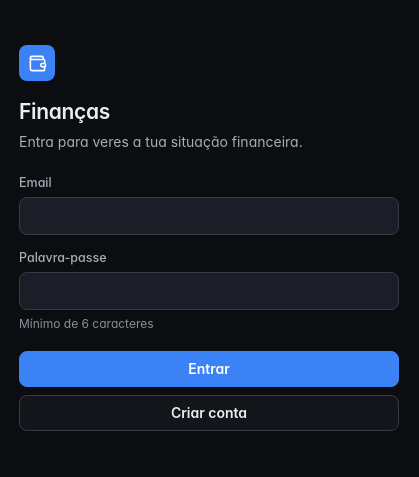
Test: autenticação › mostra o código de erro quando o login falha
This screenshot has width=419, height=477.
Type "ana@exemplo.pt" into the field labelled "Email" at (209, 216), box x1=19 y1=197 x2=399 y2=235
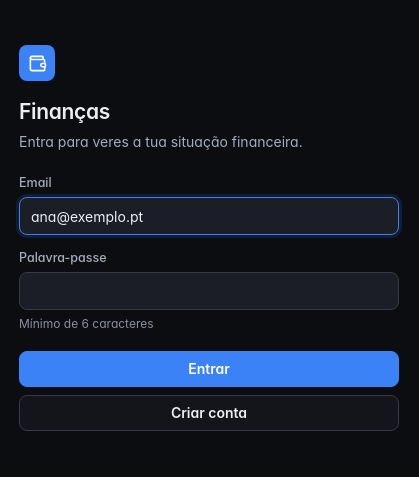
Type "errada" into the password field labelled "Palavra-passe" at (209, 291), box x1=19 y1=272 x2=399 y2=310
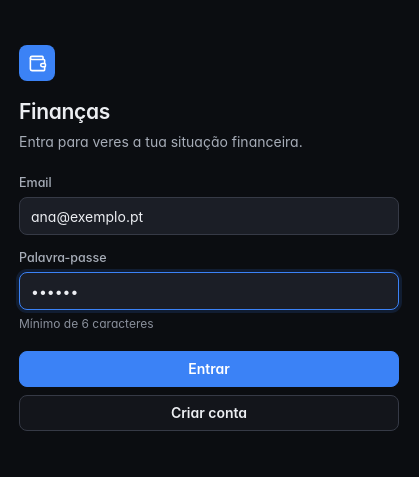
Click the button "Entrar" at (209, 369), box x1=19 y1=351 x2=399 y2=387
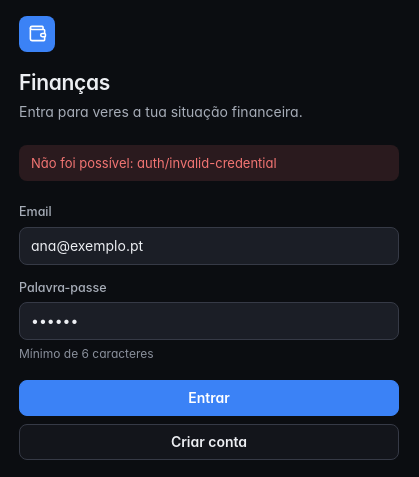
Expected: the message reads "Não foi possível: auth/invalid-credential", x1=31 y1=155 x2=277 y2=171
